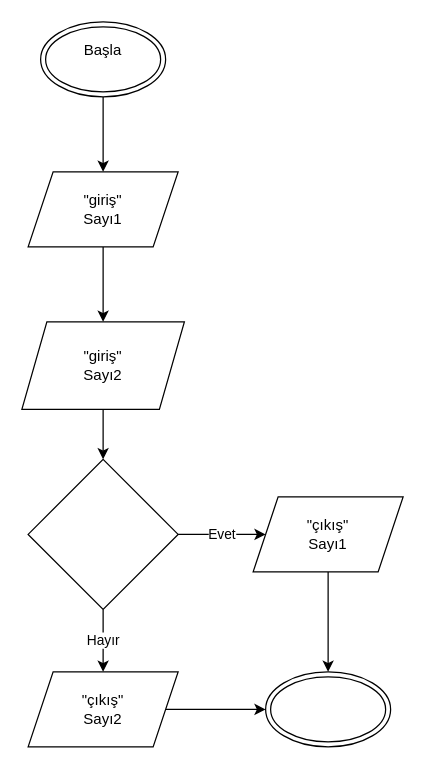
Image size: 425x769. Some labels were removed from this diagram. The centre of each missing label's shape, as x and y in pixels:
"Karşılaştır" Sayı1 > Sayı2: (x=102, y=533)
Dur: (x=327, y=709)
